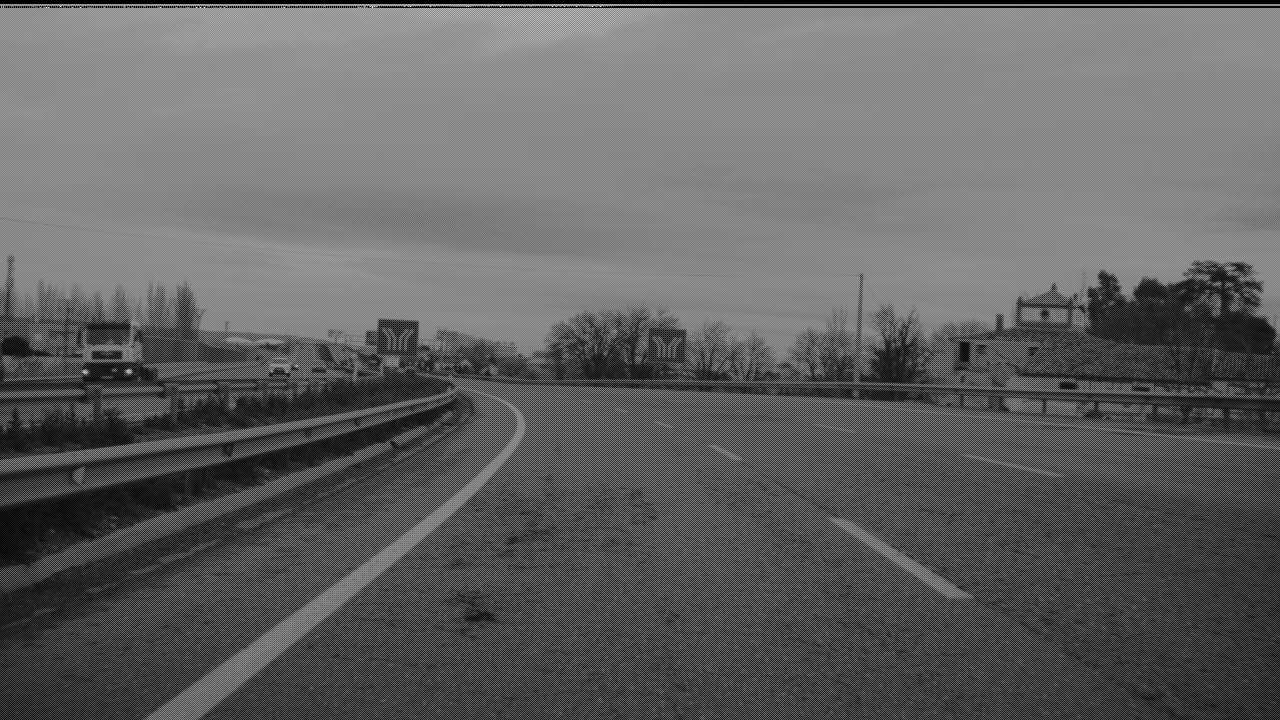pole: (855, 266, 862, 394)
